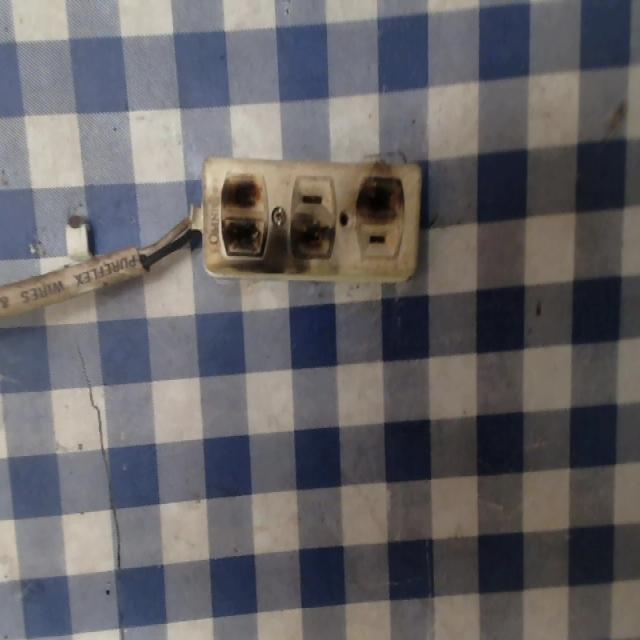-: (214, 155, 271, 272), (347, 168, 416, 221), (285, 208, 334, 265)
